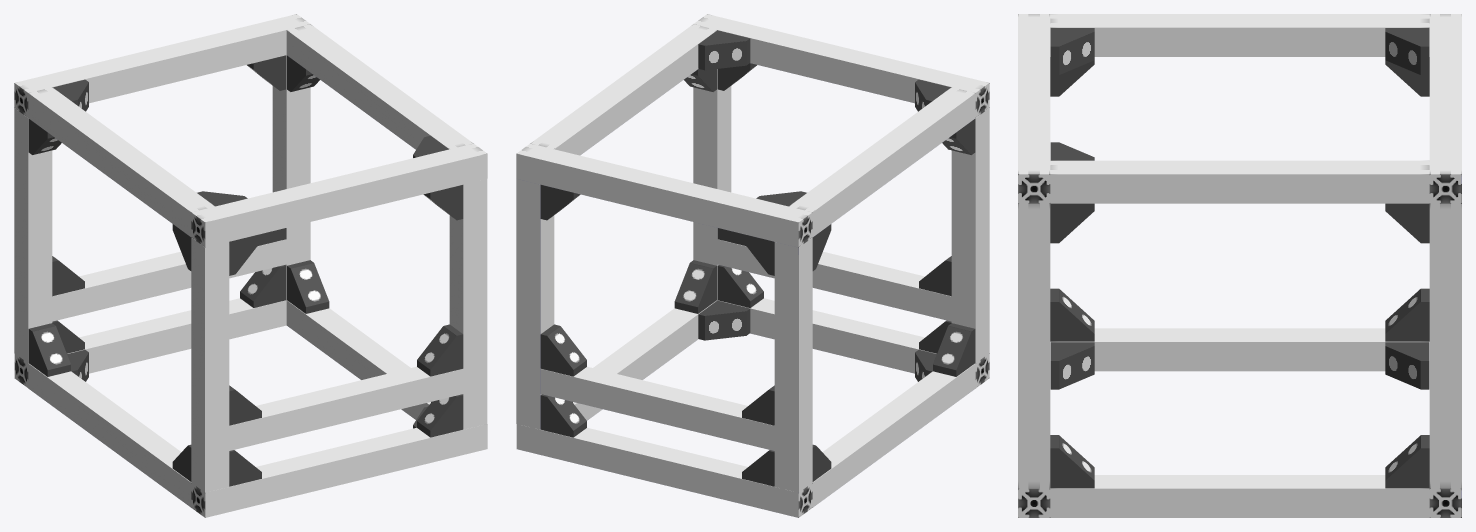
Rendered from skyminer_low.gltf.
The picture shows the model from 3 angles, left to right: view 1: azimuth 30°, elevation 25°; view 2: azimuth 150°, elevation 25°; view 3: azimuth 270°, elevation 25°; orthographic projection. The views are drawn at different scales.
Parts seen in each view (by area): view 1: frame_low_proxy.006, frame_low_proxy.005, frame_low_proxy.010, frame_low_proxy.007, frame_low_proxy.009, frame_low_proxy, frame_low_proxy.011, frame_low_proxy.013, frame_low_proxy.001, frame_low_proxy.003, frame_low_proxy.004, frame_low_proxy.008 (+16 smaller); view 2: frame_low_proxy.007, frame_low_proxy.004, frame_low_proxy.011, frame_low_proxy.006, frame_low_proxy.008, frame_low_proxy, frame_low_proxy.010, frame_low_proxy.012, frame_low_proxy.001, frame_low_proxy.003, frame_low_proxy.009, frame_low_proxy.005 (+18 smaller); view 3: frame_low_proxy.001, frame_low_proxy.002, frame_low_proxy, frame_low_proxy.003, frame_low_proxy.012, frame_low_proxy.013, frame_low_proxy.006, frame_low_proxy.007, elbow_low_proxy.024, elbow_low_proxy.025, elbow_low_proxy.020, elbow_low_proxy.022 (+11 smaller).
Boxes of the visible parts, x1,y1,x2,y2 form: frame_low_proxy.006: (191,143,487,247); frame_low_proxy.005: (191,424,487,517); frame_low_proxy.010: (191,238,229,492); frame_low_proxy.007: (14,14,310,117); frame_low_proxy.009: (229,366,463,450); frame_low_proxy: (28,87,214,236); frame_low_proxy.011: (14,108,52,363); frame_low_proxy.013: (449,179,487,429); frame_low_proxy.001: (286,24,473,149); frame_low_proxy.003: (28,363,191,507); frame_low_proxy.004: (14,298,286,387); frame_low_proxy.008: (52,239,286,321); frame_low_proxy.007: (516,143,812,247); frame_low_proxy.004: (516,424,812,517); frame_low_proxy.011: (774,238,812,492); frame_low_proxy.006: (693,14,989,117); frame_low_proxy.008: (540,366,774,450); frame_low_proxy: (789,87,975,236); frame_low_proxy.010: (951,108,989,363); frame_low_proxy.012: (516,179,554,429); frame_low_proxy.001: (530,24,716,155); frame_low_proxy.003: (812,363,975,507); frame_low_proxy.009: (717,239,951,321); frame_low_proxy.005: (717,298,989,387); frame_low_proxy.001: (1050,160,1429,203); frame_low_proxy.002: (1050,475,1429,517); frame_low_proxy: (1050,14,1429,56); frame_low_proxy.003: (1051,328,1428,371); frame_low_proxy.012: (1429,203,1461,488); frame_low_proxy.013: (1018,203,1050,488); frame_low_proxy.006: (1018,14,1050,203); frame_low_proxy.007: (1429,14,1461,203); elbow_low_proxy.024: (1050,342,1094,389); elbow_low_proxy.025: (1385,342,1429,389); elbow_low_proxy.020: (1050,28,1094,75); elbow_low_proxy.022: (1385,28,1429,75).
Size of the model in its own units: 235 by 235 by 275.
Materials: 2 (2 with a texture image).
